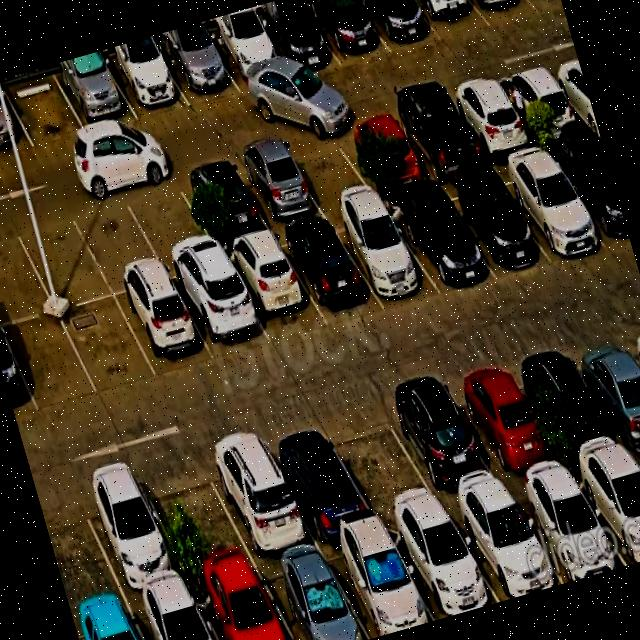empty: (134, 450, 255, 582), (318, 396, 443, 522), (36, 481, 124, 615), (121, 174, 223, 279), (11, 206, 113, 310), (70, 192, 168, 294), (59, 295, 157, 395), (2, 312, 98, 412), (280, 129, 375, 212), (2, 70, 87, 147), (0, 221, 54, 324)
occupied: (377, 376, 507, 510), (197, 426, 318, 563), (441, 359, 566, 490), (71, 464, 189, 599), (258, 415, 378, 544), (513, 340, 630, 469), (509, 475, 626, 583), (321, 528, 434, 639), (448, 492, 563, 601), (491, 152, 607, 259), (385, 513, 499, 620), (221, 235, 327, 345), (435, 174, 548, 277), (383, 191, 496, 294), (275, 219, 383, 325), (329, 205, 440, 306), (254, 549, 369, 640), (115, 281, 215, 378), (545, 137, 631, 247), (565, 327, 640, 452), (172, 266, 271, 360), (388, 96, 488, 183), (174, 159, 271, 247), (230, 144, 324, 229), (570, 453, 640, 565), (334, 113, 431, 193), (190, 566, 293, 640), (445, 79, 538, 160), (495, 64, 587, 144), (252, 3, 341, 78), (52, 58, 138, 133), (102, 46, 189, 120), (203, 20, 289, 91), (302, 0, 390, 66), (157, 34, 238, 105), (128, 584, 216, 640), (359, 0, 441, 52), (0, 326, 38, 420), (412, 0, 490, 42), (73, 601, 144, 640), (0, 84, 33, 156), (471, 0, 538, 26)
